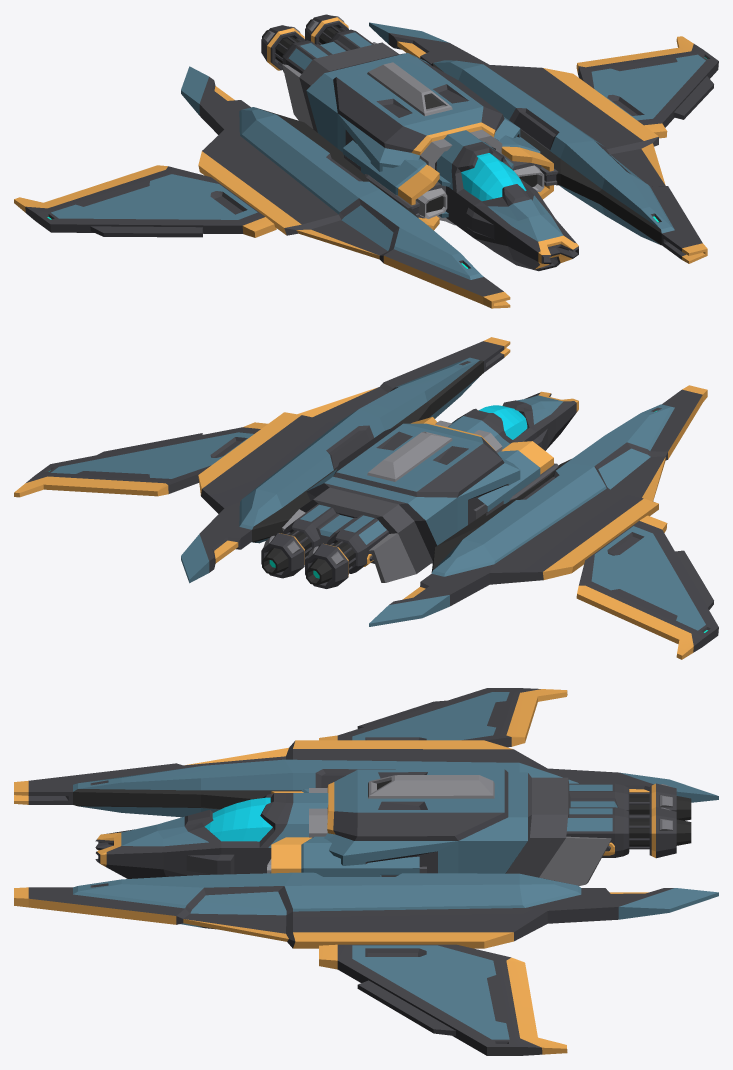
File: spaceShip.glb
3 views of the same model, one above another, from view 1: azimuth 30°, elevation 25°; view 2: azimuth 150°, elevation 25°; view 3: azimuth 270°, elevation 25° (orthographic). The views are drawn at different scales.
Visible parts, largest first — view 1: SM_Ship_Fighter_05; view 2: SM_Ship_Fighter_05; view 3: SM_Ship_Fighter_05.
Part boxes in pixels (x1,y1,x2,y2): SM_Ship_Fighter_05: (14,14,718,308); SM_Ship_Fighter_05: (14,337,718,659); SM_Ship_Fighter_05: (14,688,718,1055).
Bounding box in the file's own units: 17.77 × 2.72 × 14.76.
1 material, 1 textured.
